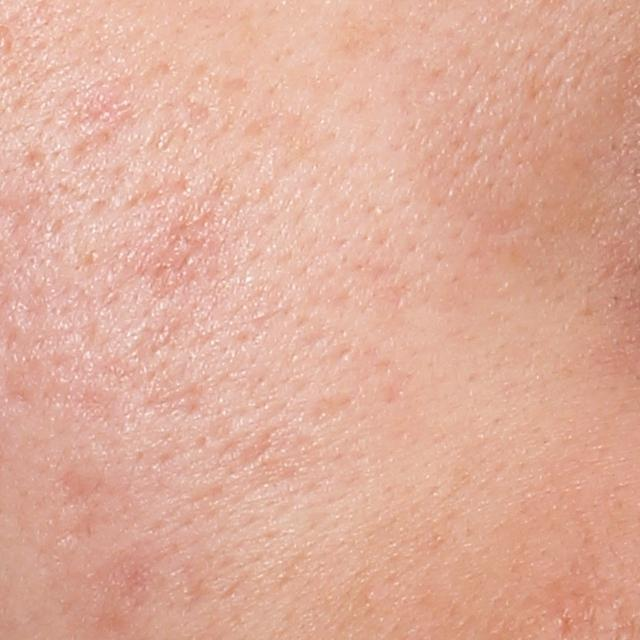atrophic_scar: (303, 390, 361, 433), (53, 509, 102, 551), (55, 473, 97, 512), (20, 148, 47, 172)
